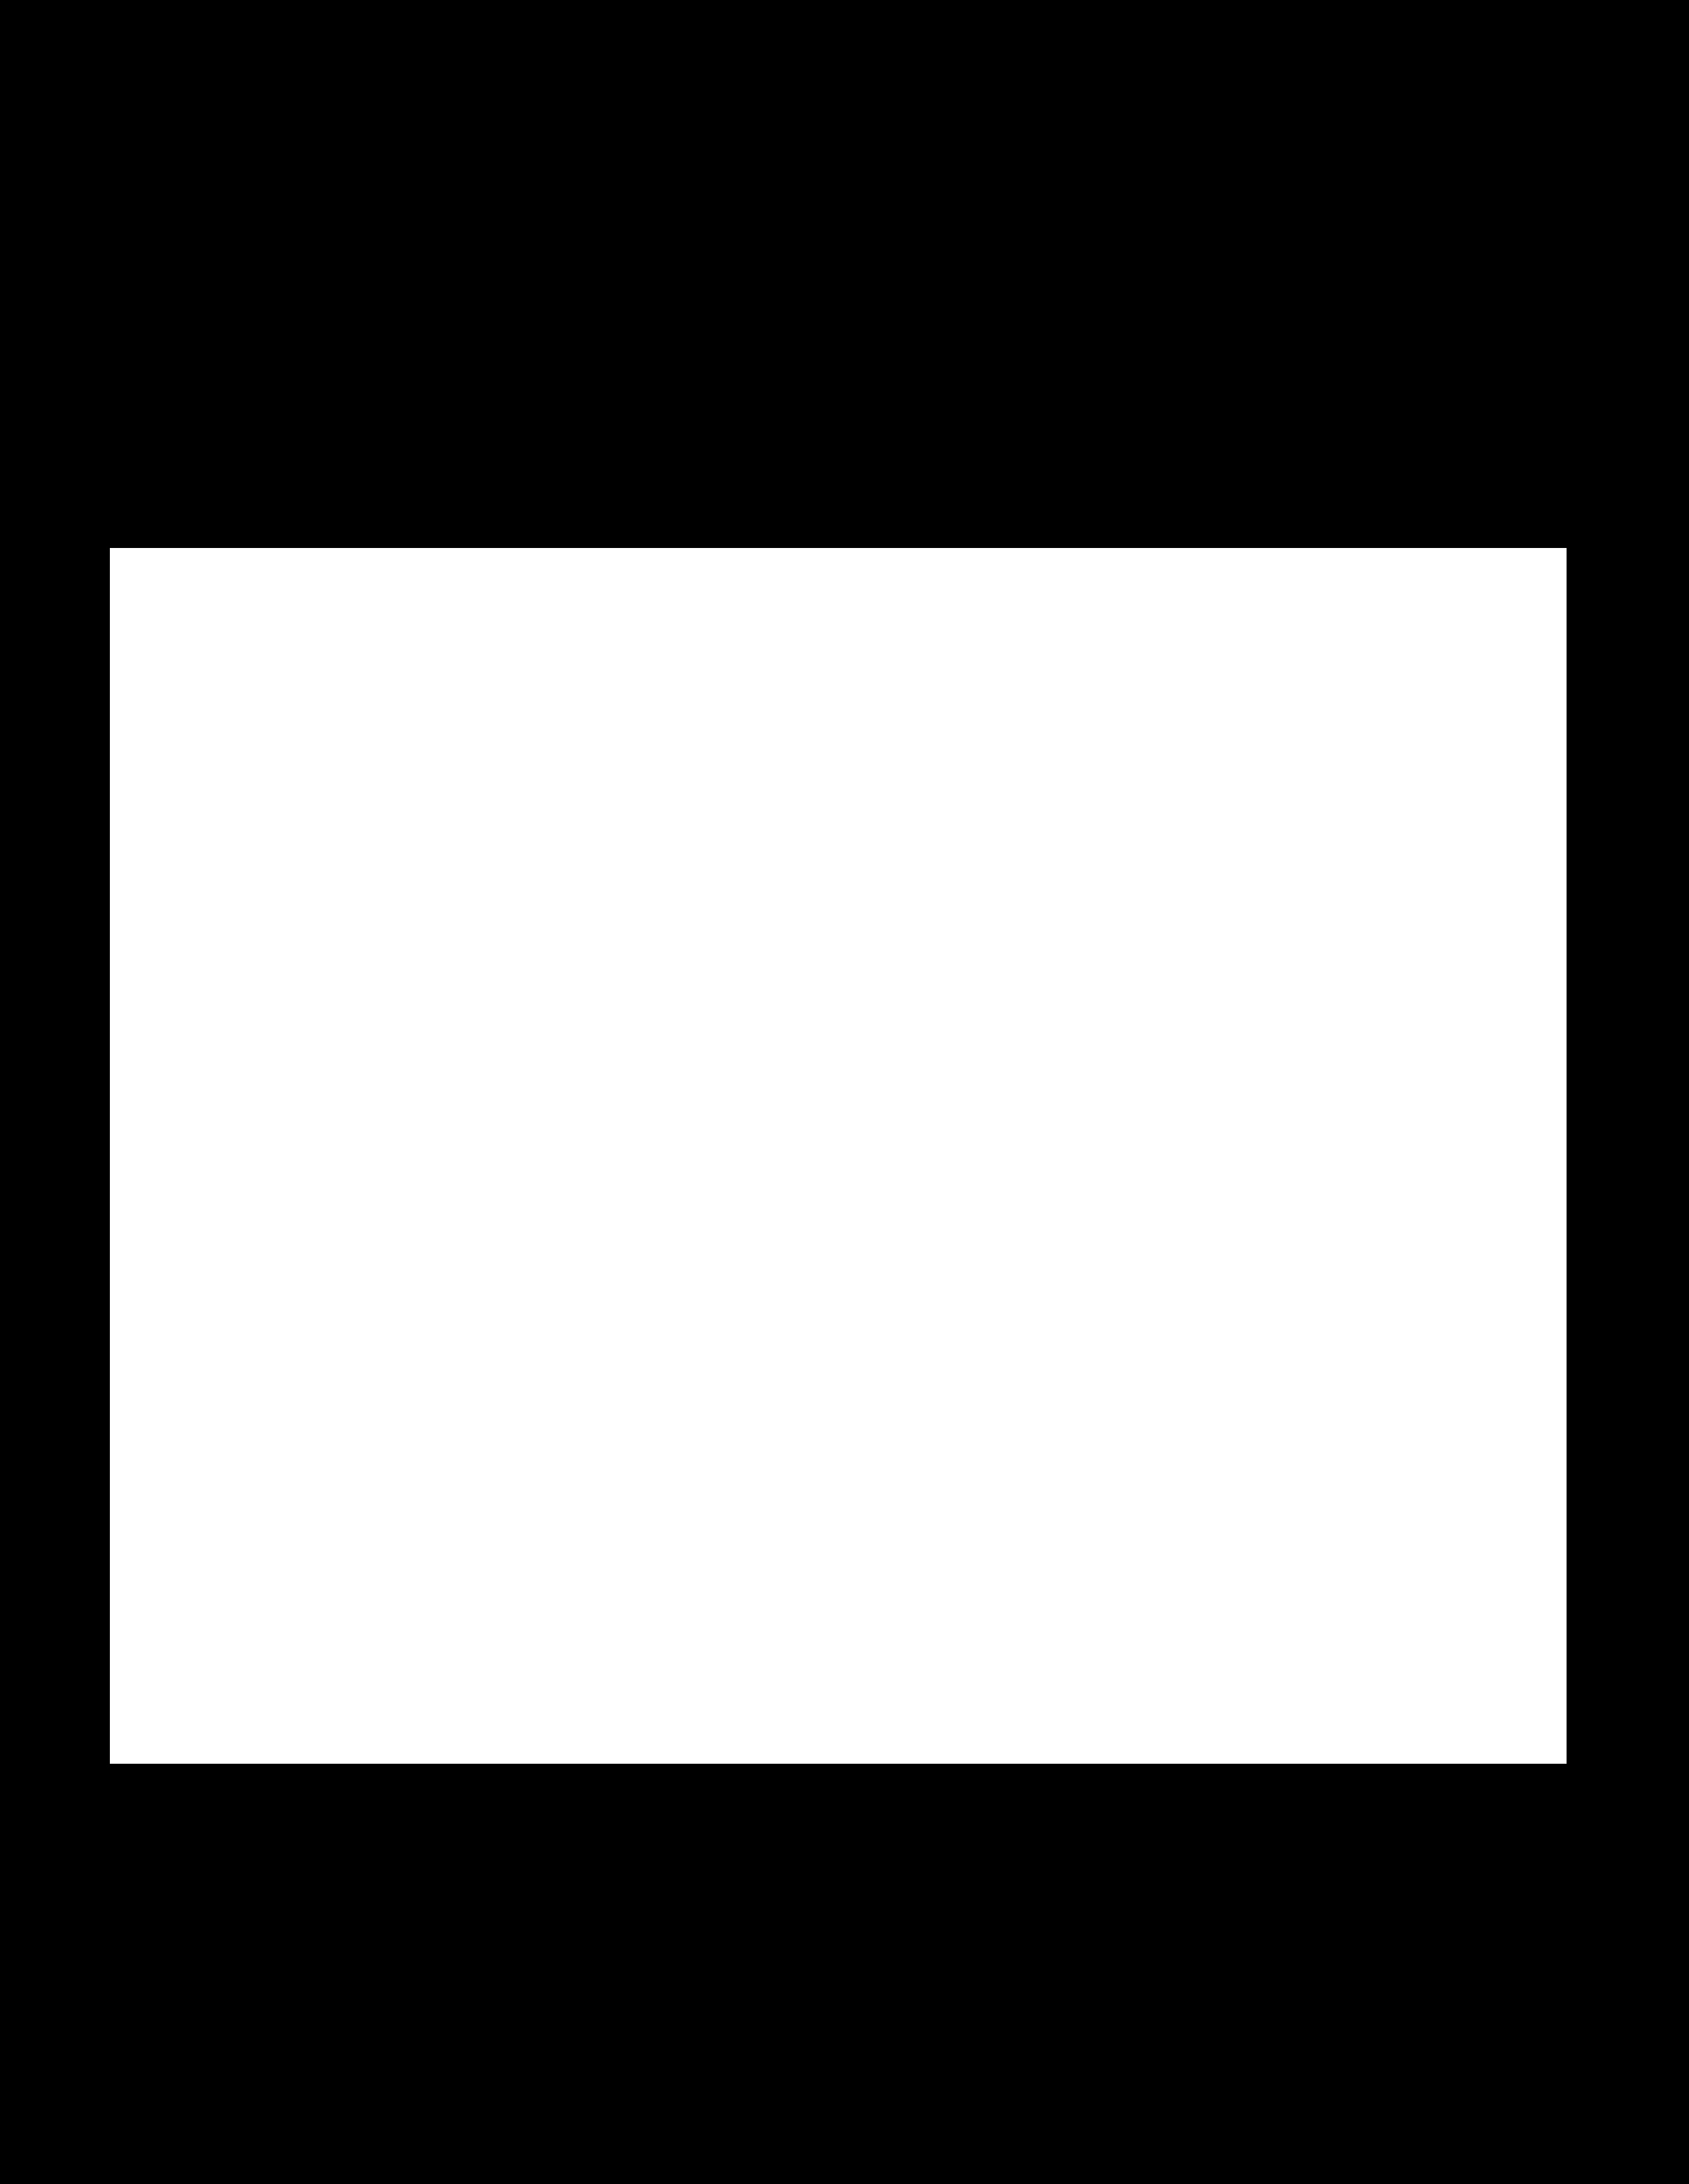table: (110, 548, 1567, 1764)
